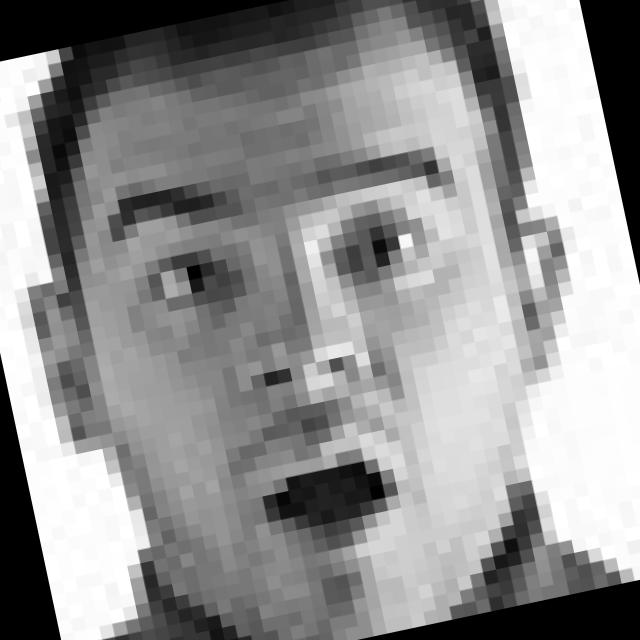surprise: (89, 117, 526, 606)
